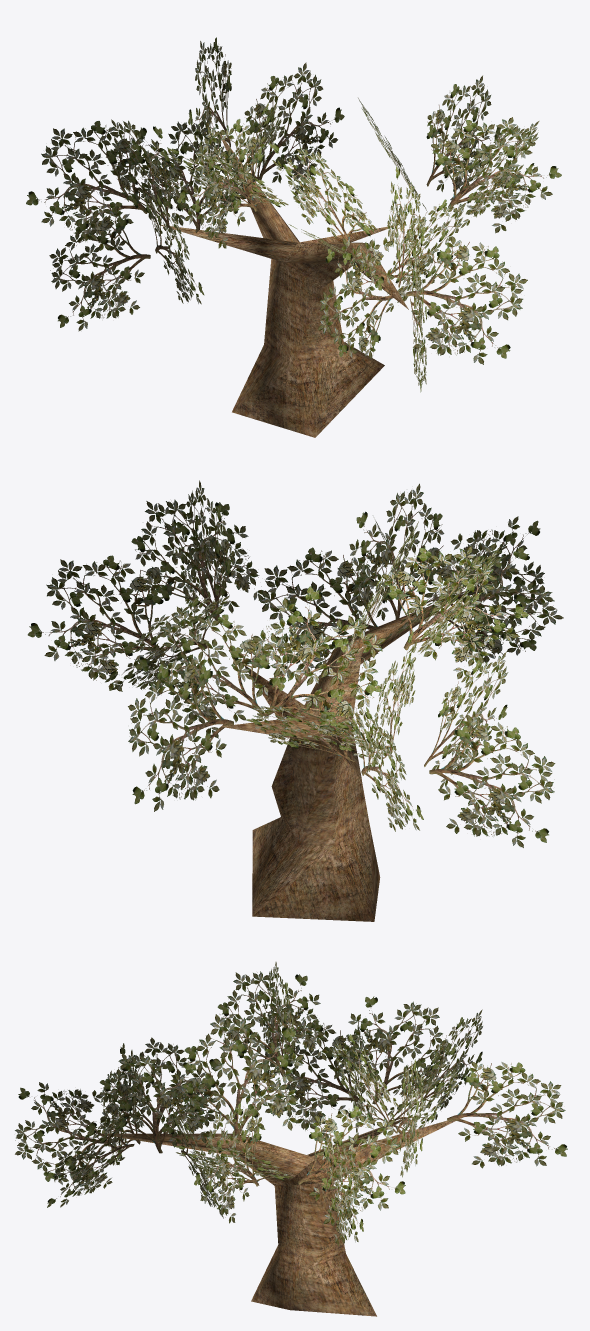
Rendered from decd_blba_tree_l3.fbx.
3 views of the same model, one above another, from view 1: azimuth 30°, elevation 25°; view 2: azimuth 150°, elevation 25°; view 3: azimuth 270°, elevation 25° (orthographic). The views are drawn at different scales.
Visible parts, largest first — view 1: mesh_node; view 2: mesh_node; view 3: mesh_node.
Part boxes in pixels (left/top/right/bottom): mesh_node: left=26, top=37, right=561, bottom=437; mesh_node: left=27, top=480, right=563, bottom=921; mesh_node: left=15, top=962, right=567, bottom=1316.
Size of the model in its own units: 13.65 by 9.51 by 15.35.
